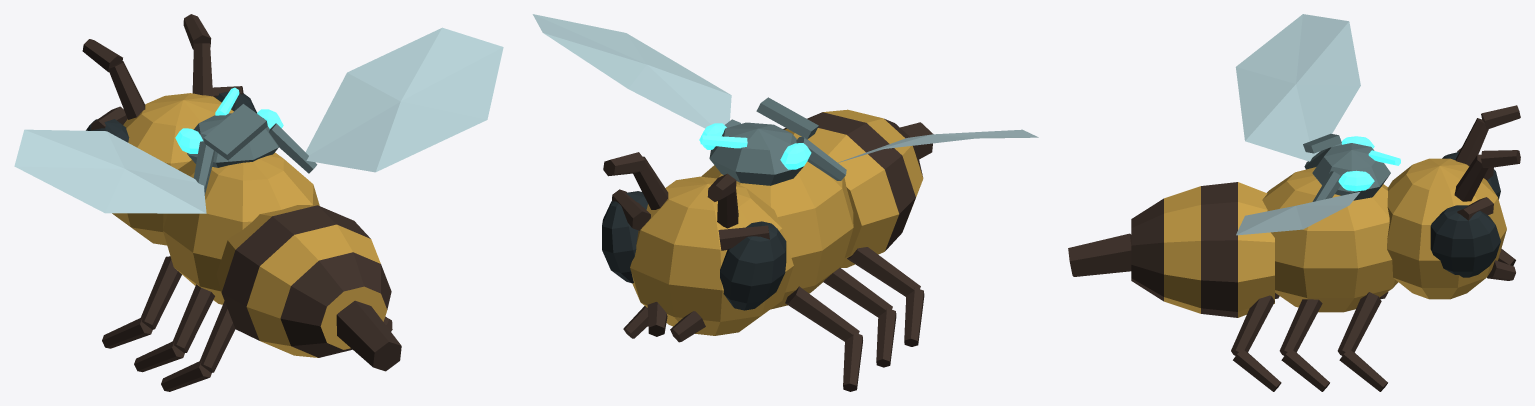
The model's file is bee_alien_visual.glb.
The picture shows the model from 3 angles, left to right: view 1: azimuth 30°, elevation 25°; view 2: azimuth 150°, elevation 25°; view 3: azimuth 270°, elevation 25°; orthographic projection. The views are drawn at different scales.
Visible parts, largest first — view 1: Abdomen, Wing_R, Wing_L, Thorax, Head, Stinger, LiftedBrokenPlate, ImplantHousing, Leg_L_0_Upper, Leg_L_1_Upper, Leg_L_2_Upper, AntennaBase_L (+10 smaller); view 2: Head, Abdomen, Wing_R, Thorax, Eye_L, ImplantHousing, Eye_R, Leg_L_0_Upper, Leg_L_2_Upper, Leg_L_1_Upper, Wing_L, LiftedBrokenPlate (+16 smaller); view 3: Abdomen, Wing_L, Thorax, Head, Eye_R, Wing_R, ImplantHousing, Stinger, Leg_R_0_Upper, Leg_R_2_Upper, Leg_R_1_Upper, AntennaBase_R (+11 smaller).
Boxes of the visible parts, x1,y1,x2,y2 form: Abdomen: [216, 205, 391, 357]; Wing_R: [305, 27, 503, 172]; Wing_L: [14, 129, 206, 213]; Thorax: [163, 152, 319, 304]; Head: [112, 93, 233, 245]; Stinger: [336, 300, 401, 371]; LiftedBrokenPlate: [203, 104, 267, 160]; ImplantHousing: [187, 113, 278, 167]; Leg_L_0_Upper: [141, 256, 181, 329]; Leg_L_1_Upper: [173, 284, 214, 352]; Leg_L_2_Upper: [200, 301, 235, 372]; AntennaBase_L: [109, 61, 145, 119]; Head: [630, 176, 793, 335]; Abdomen: [783, 109, 923, 267]; Wing_R: [532, 14, 731, 128]; Thorax: [701, 137, 853, 309]; Eye_L: [720, 221, 786, 310]; ImplantHousing: [709, 122, 803, 185]; Eye_R: [602, 191, 647, 283]; Leg_L_0_Upper: [785, 286, 859, 341]; Leg_L_2_Upper: [847, 247, 920, 296]; Leg_L_1_Upper: [823, 268, 892, 317]; Wing_L: [837, 129, 1038, 163]; LiftedBrokenPlate: [756, 97, 818, 139]; Abdomen: [1131, 182, 1274, 317]; Wing_L: [1235, 14, 1360, 161]; Thorax: [1262, 167, 1398, 312]; Head: [1387, 158, 1506, 299]; Eye_R: [1430, 205, 1500, 277]; Wing_R: [1236, 191, 1360, 235]; ImplantHousing: [1312, 143, 1390, 200]; Stinger: [1068, 233, 1131, 276]; Leg_R_0_Upper: [1337, 292, 1381, 355]; Leg_R_2_Upper: [1231, 295, 1274, 355]; Leg_R_1_Upper: [1279, 299, 1322, 355]; AntennaBase_R: [1454, 154, 1488, 201].
Bounding box in the file's own units: 1.1 × 0.5525 × 0.9762.
